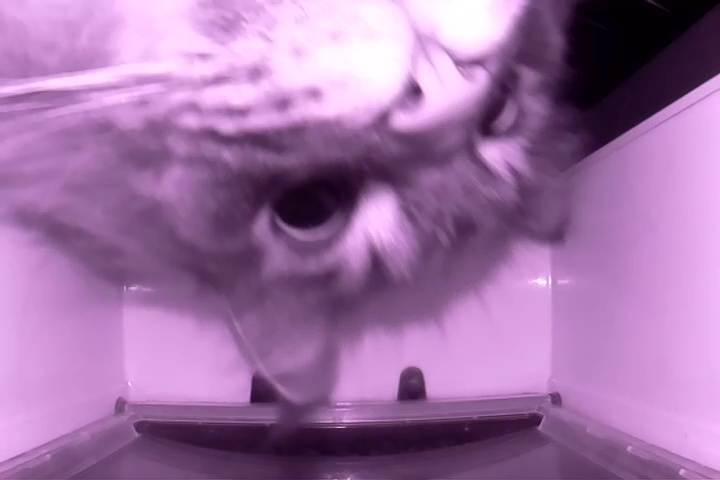Snout: (280, 5, 505, 136)
